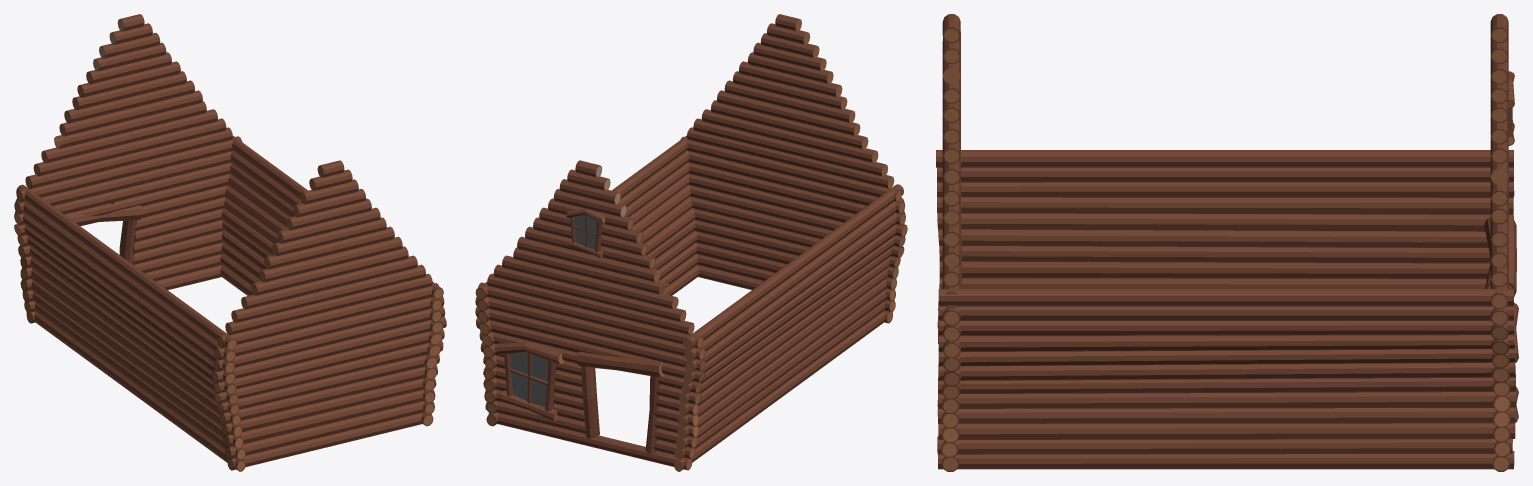
The model's file is Cabin.fbx.
3 renders of one model, left to right at view 1: azimuth 30°, elevation 25°; view 2: azimuth 150°, elevation 25°; view 3: azimuth 270°, elevation 25°, orthographic. The views are drawn at different scales.
Visible parts, largest first — view 1: House, DoorFrame; view 2: House, Windows, DoorFrame; view 3: House, DoorFrame, Windows.
Part boxes in pixels (bbox=[...]): House: bbox=[14, 14, 446, 471]; DoorFrame: bbox=[64, 203, 142, 264]; House: bbox=[475, 14, 907, 471]; Windows: bbox=[496, 208, 604, 421]; DoorFrame: bbox=[577, 351, 663, 453]; House: bbox=[936, 14, 1516, 471]; DoorFrame: bbox=[1484, 216, 1516, 296]; Windows: bbox=[1508, 71, 1518, 422].
Bounding box in the file's own units: 739 × 870 × 1191.
